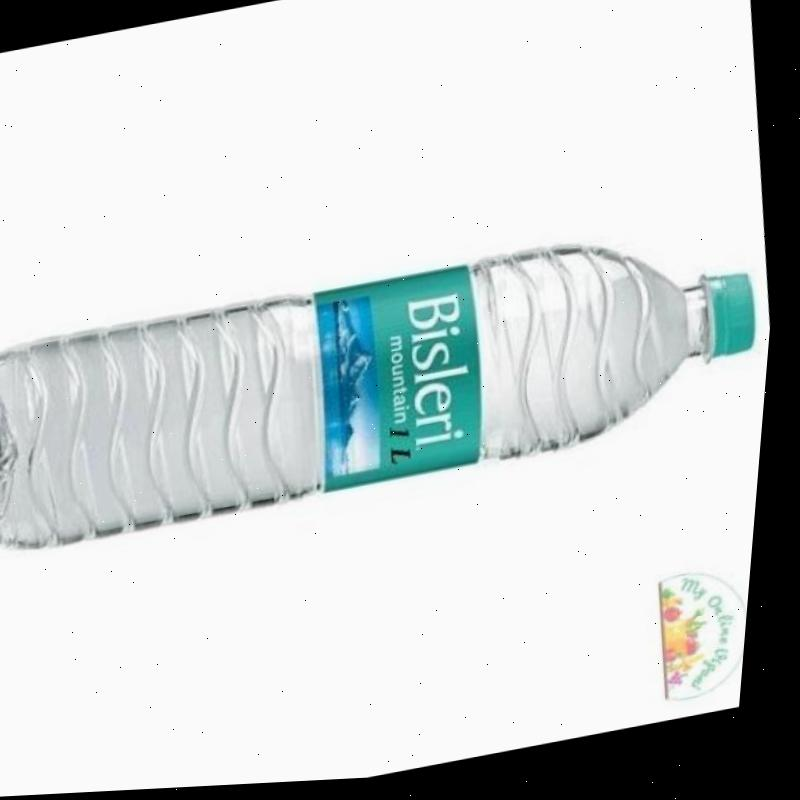botella: (0, 207, 783, 561)
